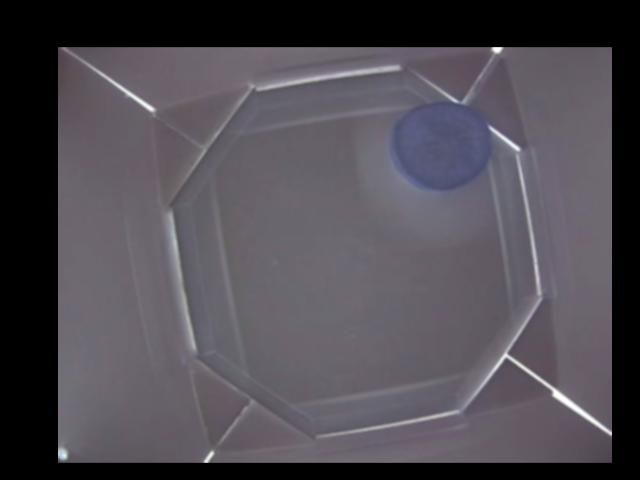Mooli: (389, 100, 493, 191)
